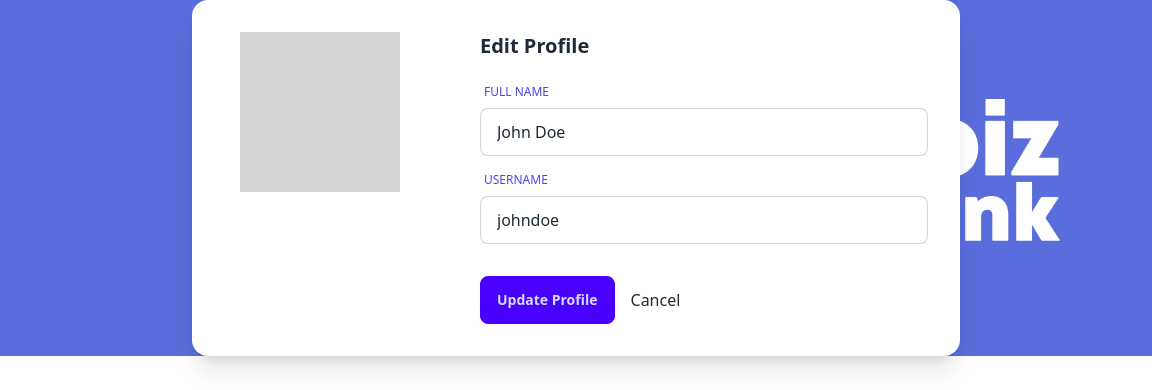
Test case: AccountUpdate Component › disables the submit button while loading
Click the button "Update Profile": coordinates (547, 300) x1=480 y1=276 x2=614 y2=324
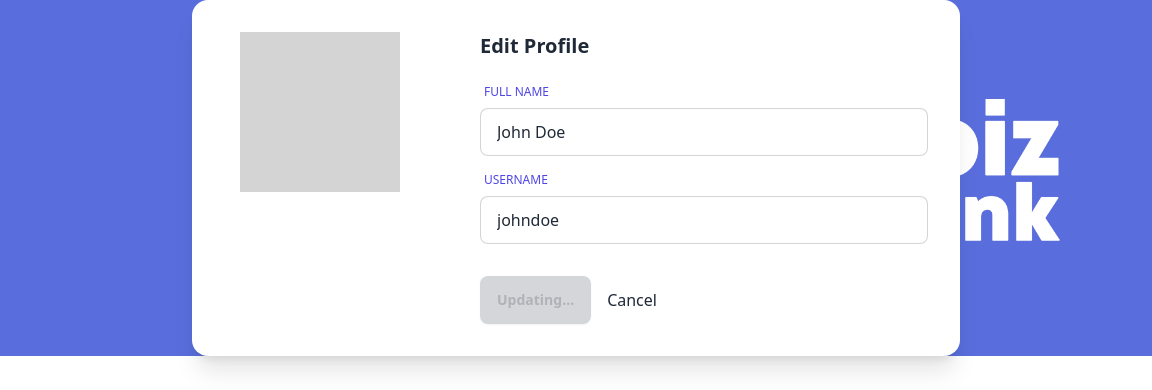
Now the button named "update profile" is disabled, box x1=480 y1=276 x2=591 y2=324
Now the button named "update profile" reads "Updating...", box x1=480 y1=276 x2=591 y2=324
